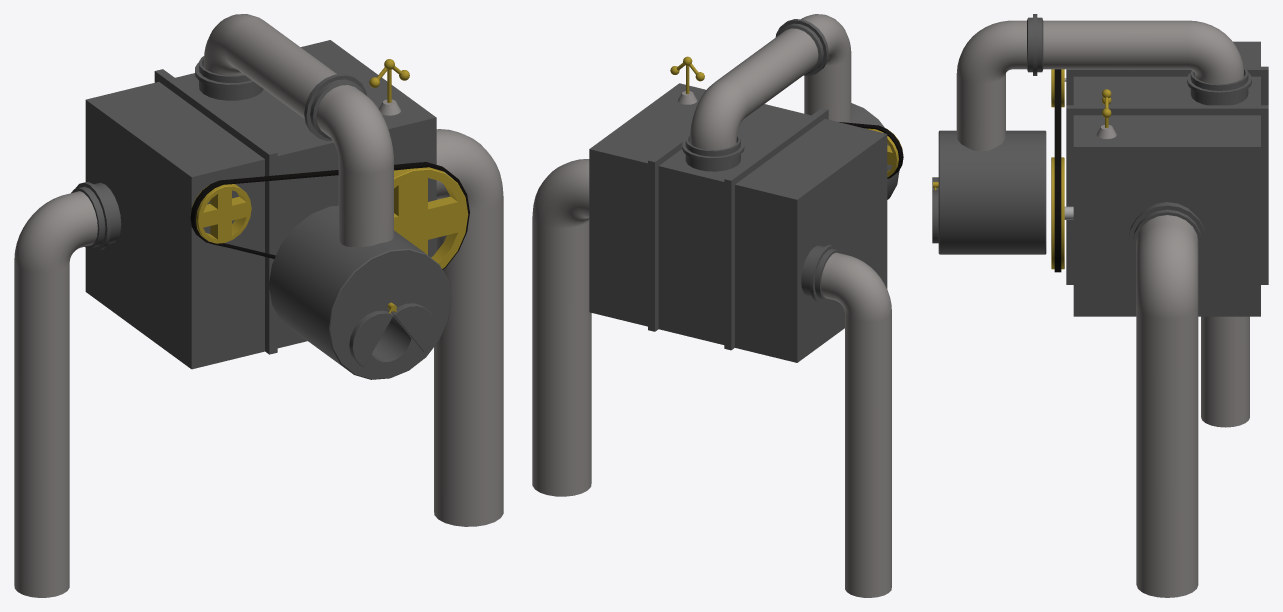
Rendered from coal_oven_two.fbx.
3 renders of one model, left to right at view 1: azimuth 30°, elevation 25°; view 2: azimuth 150°, elevation 25°; view 3: azimuth 270°, elevation 25°, orthographic. The views are drawn at different scales.
Visible parts, largest first — view 1: coal_oven1; view 2: coal_oven1; view 3: coal_oven1.
Part boxes in pixels (x1,y1,x2,y2): coal_oven1: [14, 14, 503, 597]; coal_oven1: [532, 14, 903, 597]; coal_oven1: [932, 14, 1268, 597].
Bounding box in the file's own units: 7.32 × 8.5 × 5.39.
